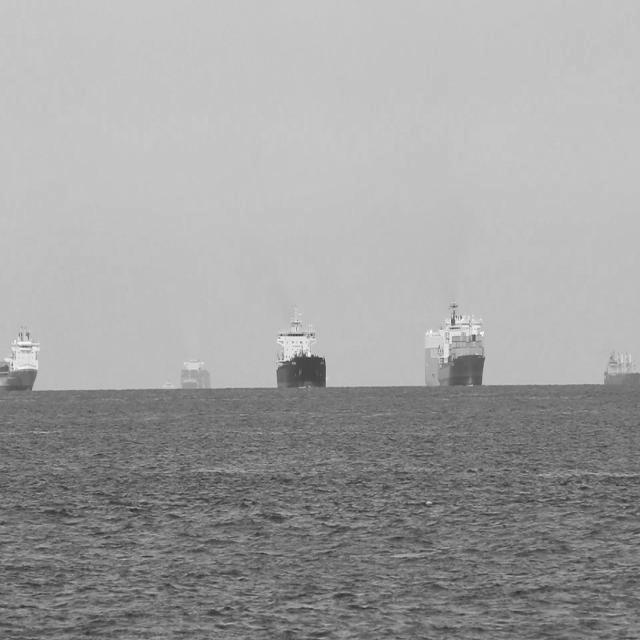ship: (422, 294, 486, 389), (274, 296, 325, 390), (0, 322, 40, 392), (600, 347, 638, 387), (180, 356, 212, 393), (158, 375, 178, 393)
